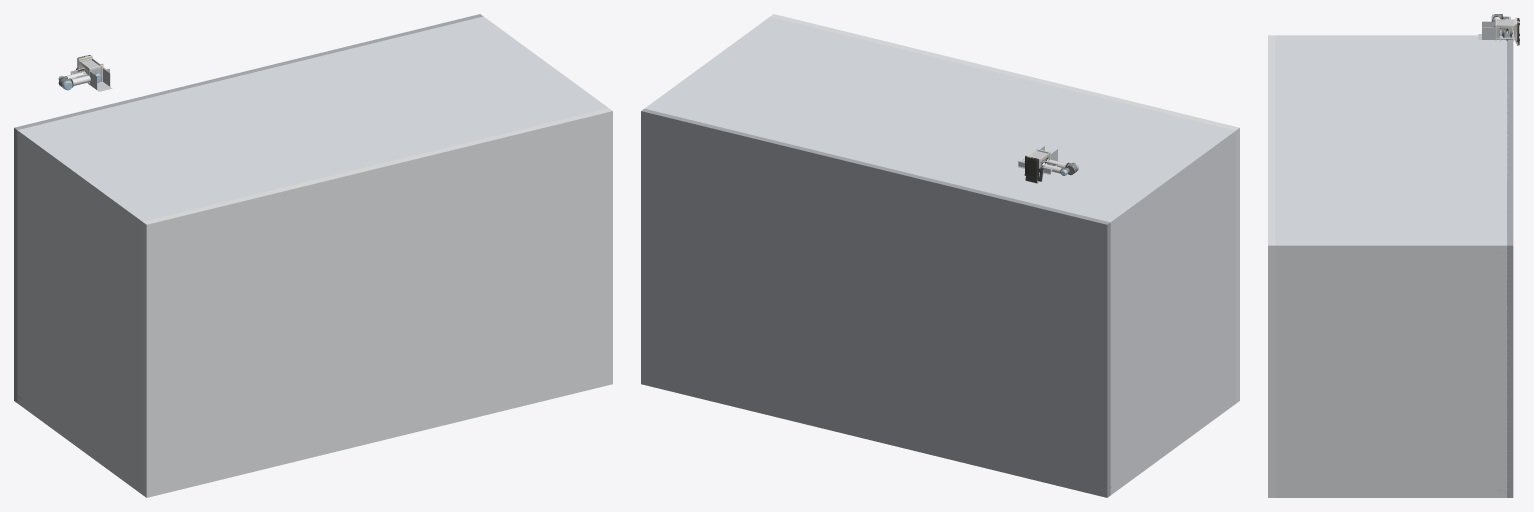
The picture shows the model from 3 angles, left to right: view 1: azimuth 30°, elevation 25°; view 2: azimuth 150°, elevation 25°; view 3: azimuth 270°, elevation 25°; orthographic projection. The views are drawn at different scales.
Visible parts, largest first — view 1: static_world, /World/Stations/balance_1/Asset/Source/AnalyticalBalance001#; view 2: static_world; view 3: static_world, /World/Stations/balance_1/Asset/Source/AnalyticalBalance001#.
Boxes of the visible parts, x1,y1,x2,y2 form: static_world: [14, 14, 612, 497]; /World/Stations/balance_1/Asset/Source/AnalyticalBalance001#: [77, 55, 111, 91]; static_world: [641, 14, 1239, 497]; static_world: [1268, 35, 1513, 497]; /World/Stations/balance_1/Asset/Source/AnalyticalBalance001#: [1478, 17, 1519, 45].
Bounding box in the file's own units: 6.66 × 4.44 × 3.37.
Materials: 40 (10 with a texture image).
